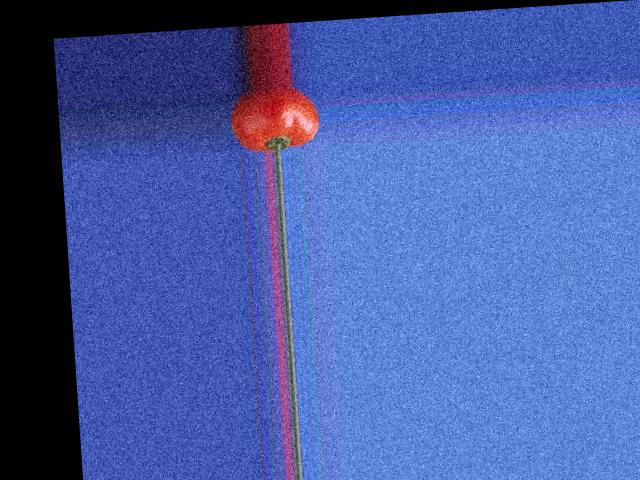tomato: (228, 84, 320, 154)
